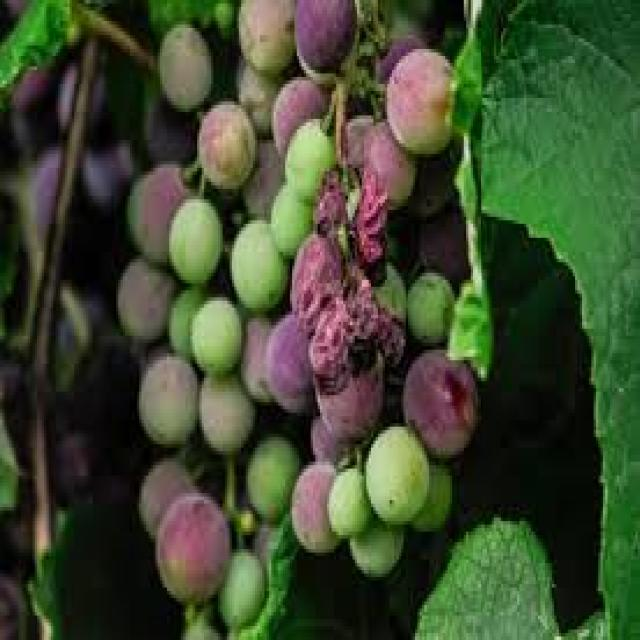biodegradable: (475, 0, 638, 637), (413, 511, 563, 637), (438, 133, 494, 378), (153, 483, 227, 602), (399, 346, 475, 455), (232, 514, 292, 637), (74, 325, 146, 427), (387, 45, 457, 147), (313, 346, 385, 444), (0, 0, 88, 80), (123, 161, 192, 262), (135, 339, 197, 448), (51, 388, 104, 507), (445, 0, 494, 126), (366, 427, 427, 525), (23, 143, 79, 245), (285, 228, 343, 326), (193, 98, 258, 185), (225, 214, 285, 305), (322, 444, 378, 539), (359, 115, 415, 210), (134, 455, 195, 542), (244, 430, 299, 525), (264, 304, 313, 409), (197, 364, 255, 451), (269, 74, 329, 158), (292, 0, 355, 77), (155, 17, 209, 105), (165, 192, 218, 280), (288, 455, 339, 546), (114, 256, 174, 333), (401, 266, 455, 350), (56, 49, 104, 143), (142, 80, 197, 161), (232, 53, 285, 137), (283, 112, 334, 199), (0, 346, 32, 482), (86, 133, 141, 210), (343, 507, 404, 574), (214, 546, 265, 626), (234, 0, 292, 70), (190, 294, 239, 374), (146, 0, 237, 42), (165, 276, 211, 357), (415, 210, 468, 280), (371, 35, 427, 98), (61, 290, 112, 357), (239, 308, 278, 395), (350, 168, 387, 259), (63, 213, 116, 273), (239, 136, 278, 217), (267, 179, 308, 256), (332, 270, 376, 340), (408, 144, 452, 214), (0, 479, 32, 563), (7, 45, 51, 105), (311, 158, 348, 228), (309, 409, 357, 462), (371, 304, 410, 367), (7, 109, 53, 158), (0, 566, 32, 636), (380, 203, 413, 262), (337, 105, 374, 157), (374, 259, 404, 311), (93, 472, 130, 511), (2, 0, 27, 17)
